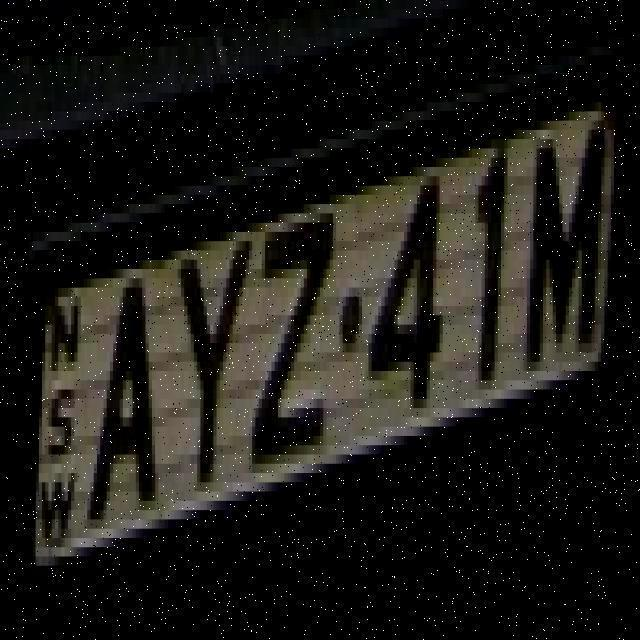LicensePlate: (11, 64, 626, 594)
